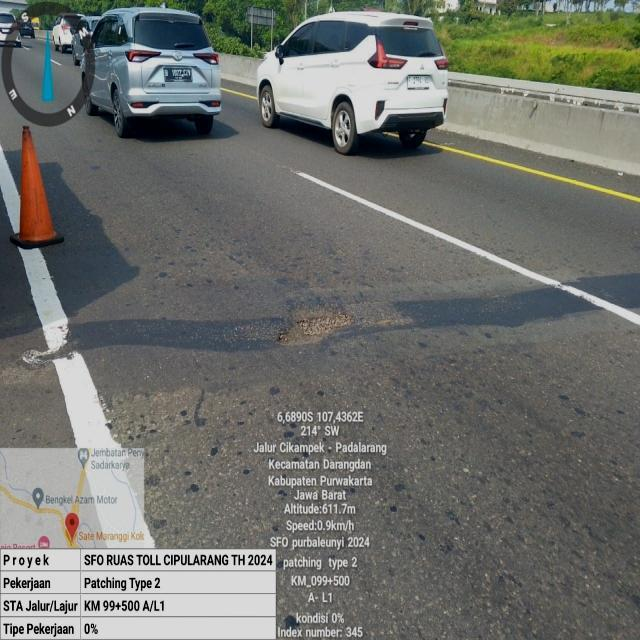Buraco: (272, 300, 361, 350)
